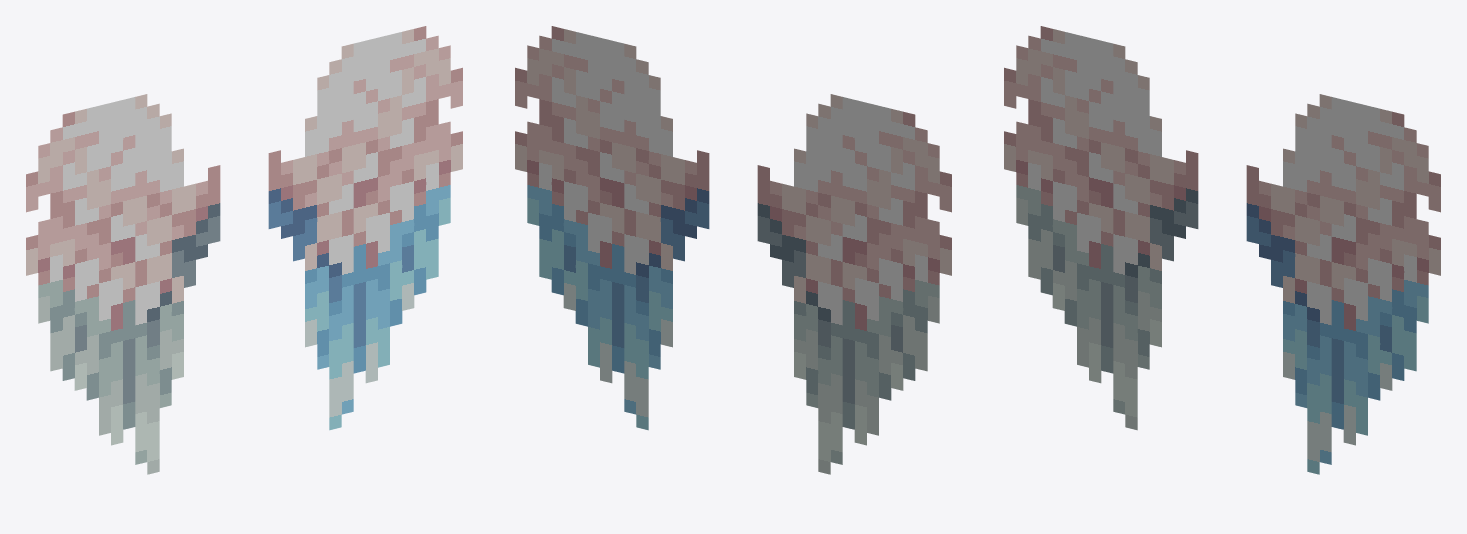
The model's file is sl_mixed_angel_wings.glb.
The picture shows the model from 3 angles, left to right: view 1: azimuth 30°, elevation 25°; view 2: azimuth 150°, elevation 25°; view 3: azimuth 330°, elevation 25°; orthographic projection.
Visible parts, largest first — view 1: bb_mixed_angel_wings; view 2: bb_mixed_angel_wings; view 3: bb_mixed_angel_wings.
Boxes of the visible parts, <box> form: bb_mixed_angel_wings: <box>26,26,462,474</box>; bb_mixed_angel_wings: <box>515,26,951,474</box>; bb_mixed_angel_wings: <box>1004,26,1440,474</box>.
Bounding box in the file's own units: 2.38 × 1.94 × 0.
1 material, 1 textured.
